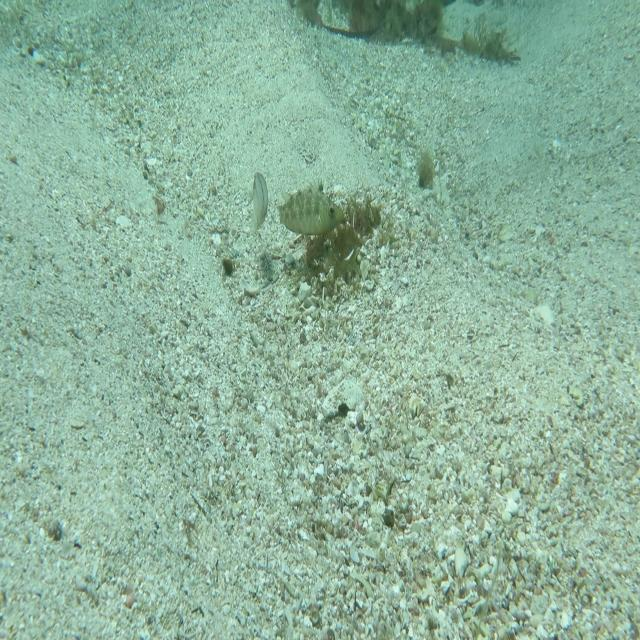ROLL: (272, 175, 347, 239)
female: (242, 168, 281, 236)
nest: (283, 168, 386, 304)
